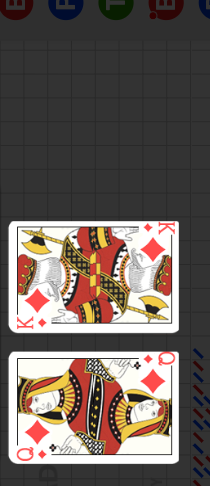KD: (15, 316, 49, 331)
QD: (132, 364, 179, 408), (12, 431, 58, 475)
